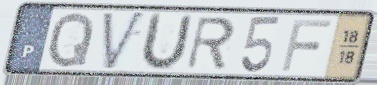5: (239, 15, 282, 74)
F: (278, 17, 334, 74)
Q: (45, 10, 97, 70)
R: (184, 15, 238, 71)
U: (136, 11, 195, 73)
V: (101, 9, 148, 74)
